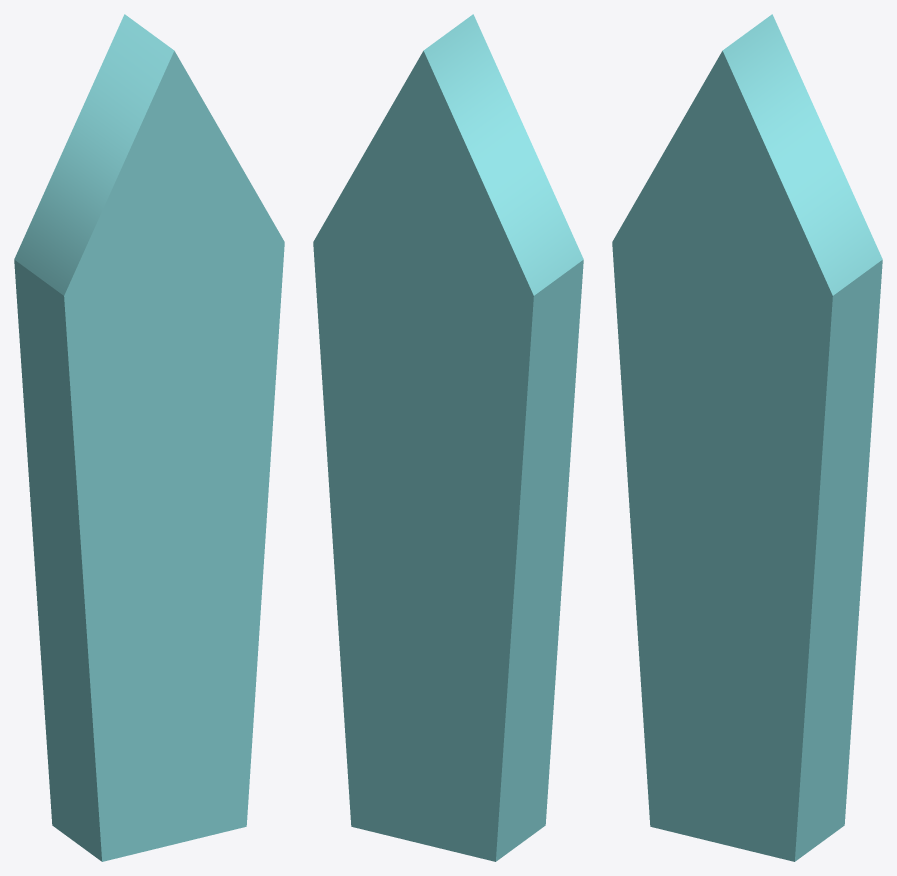
3 renders of one model, left to right at view 1: azimuth 30°, elevation 25°; view 2: azimuth 150°, elevation 25°; view 3: azimuth 330°, elevation 25°, orthographic.
Parts seen in each view (by area): view 1: wl02_a001; view 2: wl02_a001; view 3: wl02_a001.
Part boxes in pixels (<box>): wl02_a001: <box>14,14,284,861</box>; wl02_a001: <box>313,14,583,861</box>; wl02_a001: <box>612,14,882,861</box>.
Bounding box in the file's own units: 15.79 × 54.27 × 6.19.
